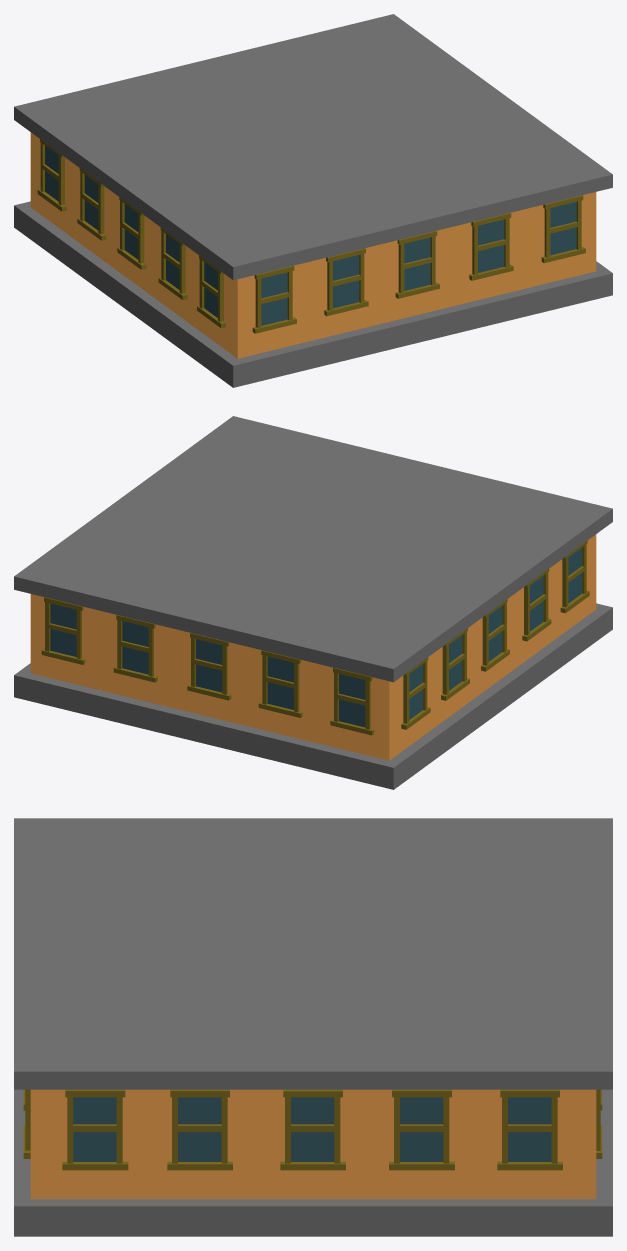
Rendered from skyscraper.glb.
3 views of the same model, one above another, from view 1: azimuth 30°, elevation 25°; view 2: azimuth 150°, elevation 25°; view 3: azimuth 270°, elevation 25° (orthographic). The views are drawn at different scales.
Visible parts, largest first — view 1: Box (×3), Plane (×10); view 2: Box (×3), Plane (×10); view 3: Box (×8), Plane (×5).
Part boxes in pixels (x1,y1,x2,y2): Box (×3): [14, 14, 612, 387]; Plane (×10): [45, 145, 576, 325]; Box (×3): [14, 416, 612, 789]; Plane (×10): [50, 547, 581, 727]; Box (×8): [14, 818, 612, 1236]; Plane (×5): [73, 1097, 551, 1161].
Size of the model in its own units: 1.8 by 0.5472 by 1.8.
